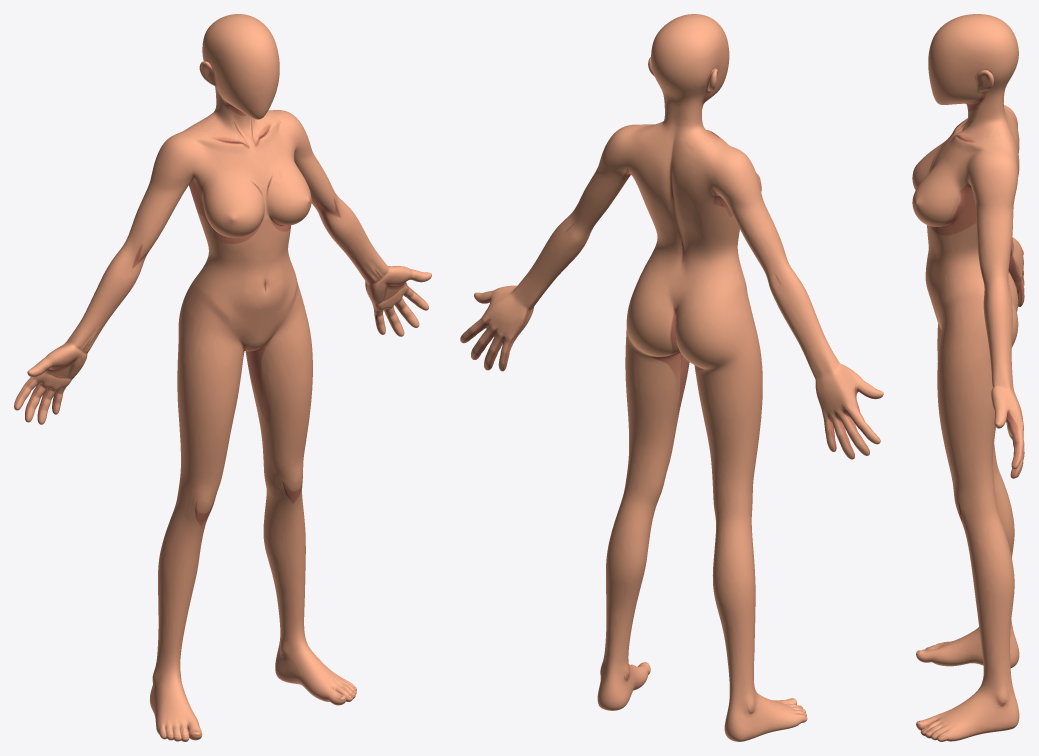
File: womanbase.glb
The picture shows the model from 3 angles, left to right: view 1: azimuth 30°, elevation 25°; view 2: azimuth 150°, elevation 25°; view 3: azimuth 270°, elevation 25°; orthographic projection. The views are drawn at different scales.
Bounding box in the file's own units: 1.2 × 1.9 × 0.2839.
Materials: 1 (1 with a texture image).
